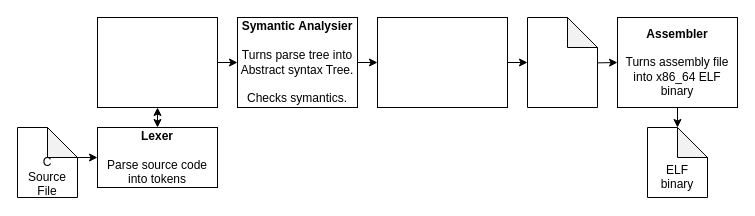
This 755x216 diagram has some shape labels left out. The shapes that lost their labels are listed below. From the top down, each one's box as (x1, y1, x2, y2) in pixels, then its label:
(96, 16, 218, 108): Parser Uses lexer to create Parse Tree. Checks Syntax.
(376, 16, 508, 108): Code Generator Turns Abstract syntax tree into a .s a assembly file
(526, 16, 598, 108): .S Assembly File
